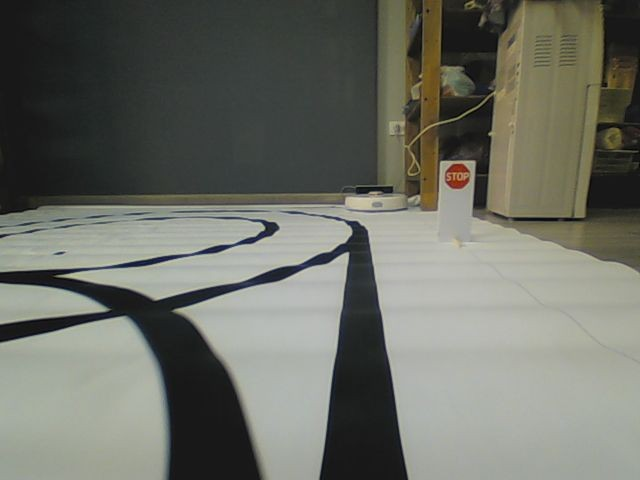Stop: (443, 164, 472, 191)
